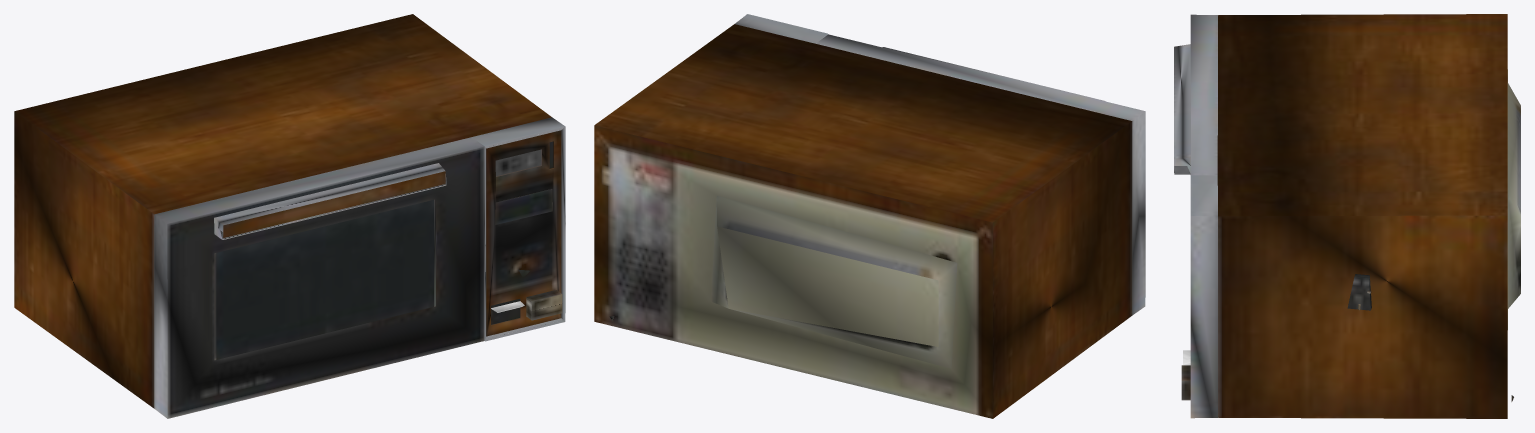
The model's file is vintage_microwave.glb.
3 renders of one model, left to right at view 1: azimuth 30°, elevation 25°; view 2: azimuth 150°, elevation 25°; view 3: azimuth 270°, elevation 25°, orthographic. The views are drawn at different scales.
Parts seen in each view (by area): view 1: vintage_microwave; view 2: vintage_microwave; view 3: vintage_microwave.
Boxes of the visible parts, bbox=[...] form: vintage_microwave: bbox=[14, 14, 565, 418]; vintage_microwave: bbox=[594, 14, 1145, 418]; vintage_microwave: bbox=[1174, 14, 1520, 418].
Size of the model in its own units: 1.07 by 0.5037 by 0.7304.
Materials: 2 (2 with a texture image).
